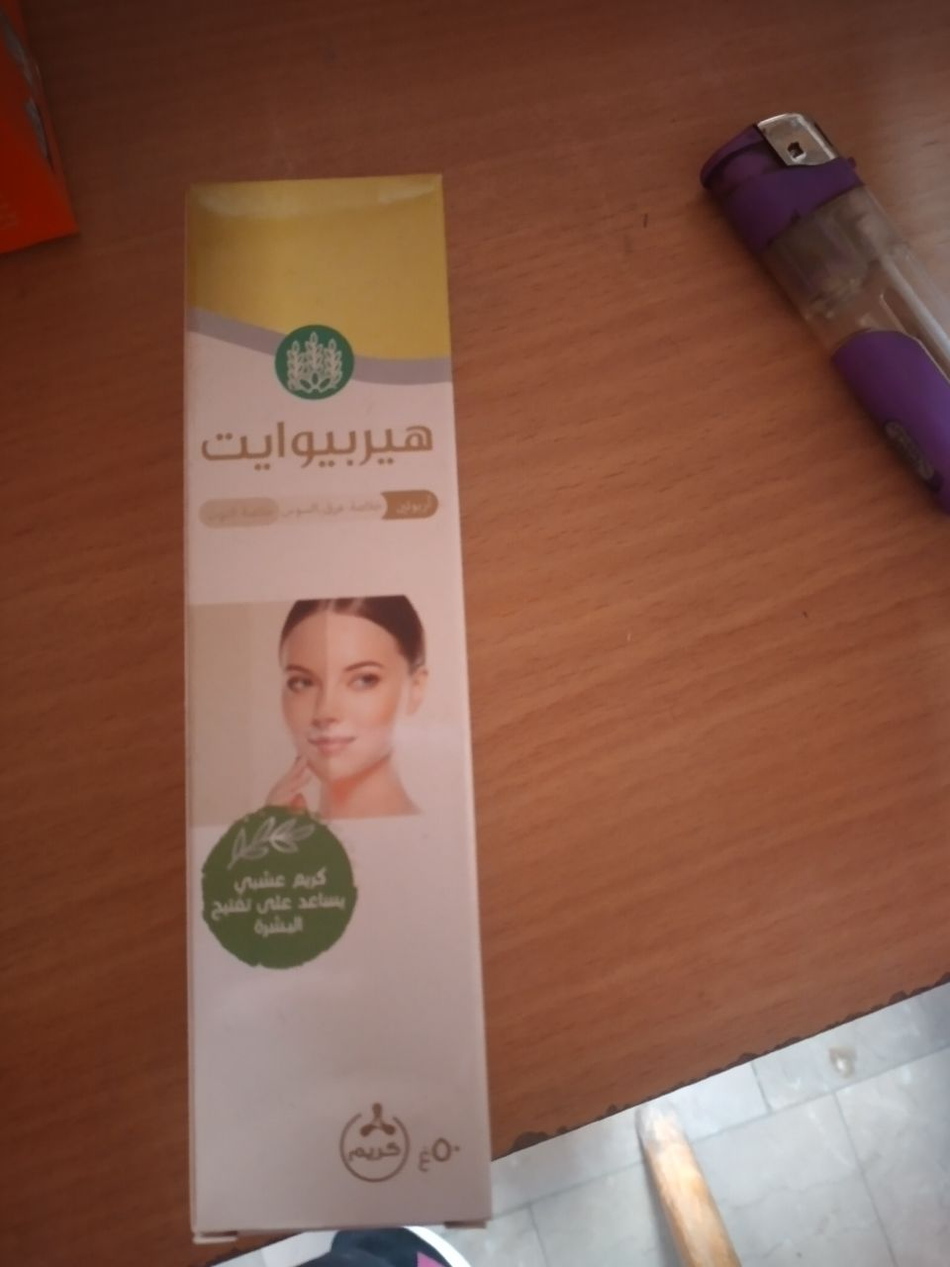Medicine: (172, 175, 505, 1221)
